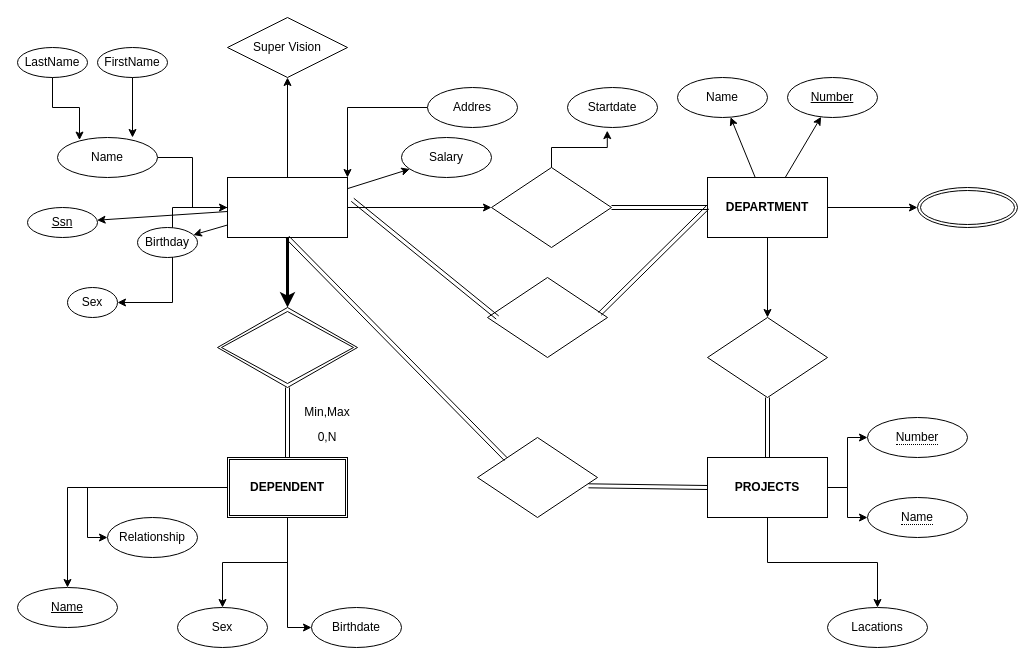
Some shapes in this 1035 by 665 pixel diagram are drawn without their labels. The centre of each missing label's shape, as x and y in pixels:
CONTROLS: (767,357)
DEPENDENTS_OF: (287,347)
EMPLOYEE: (287,207)
Locations: (967,207)
MANAGES: (551,207)
WORKS FOR: (547,317)
WORKS ON: (537,477)
